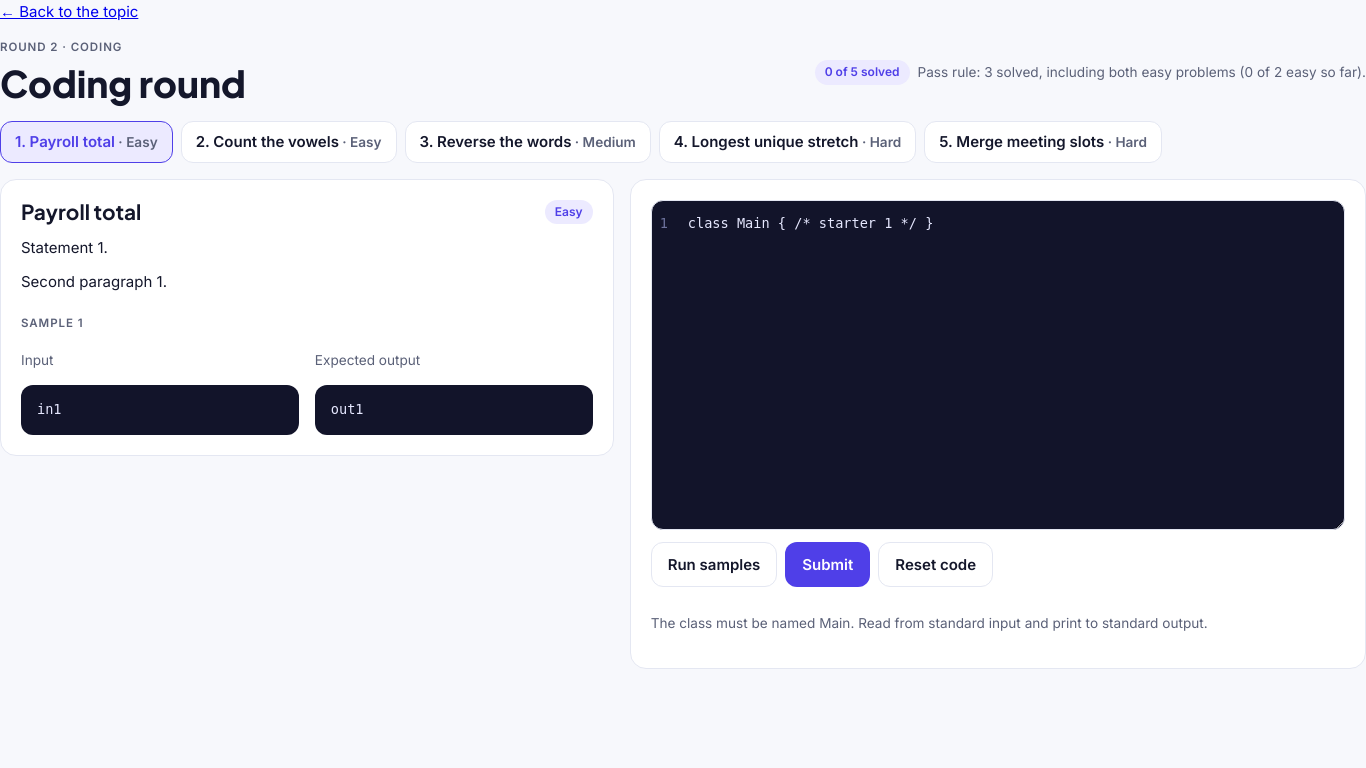
Test: writing and running code › a hidden test failure shows only that it failed, never its data
Check: the heading "Payroll total" is shown, box [21,200,141,224]
Click the button "Submit": [828, 565] box [785,542,870,587]
(page scrolled)
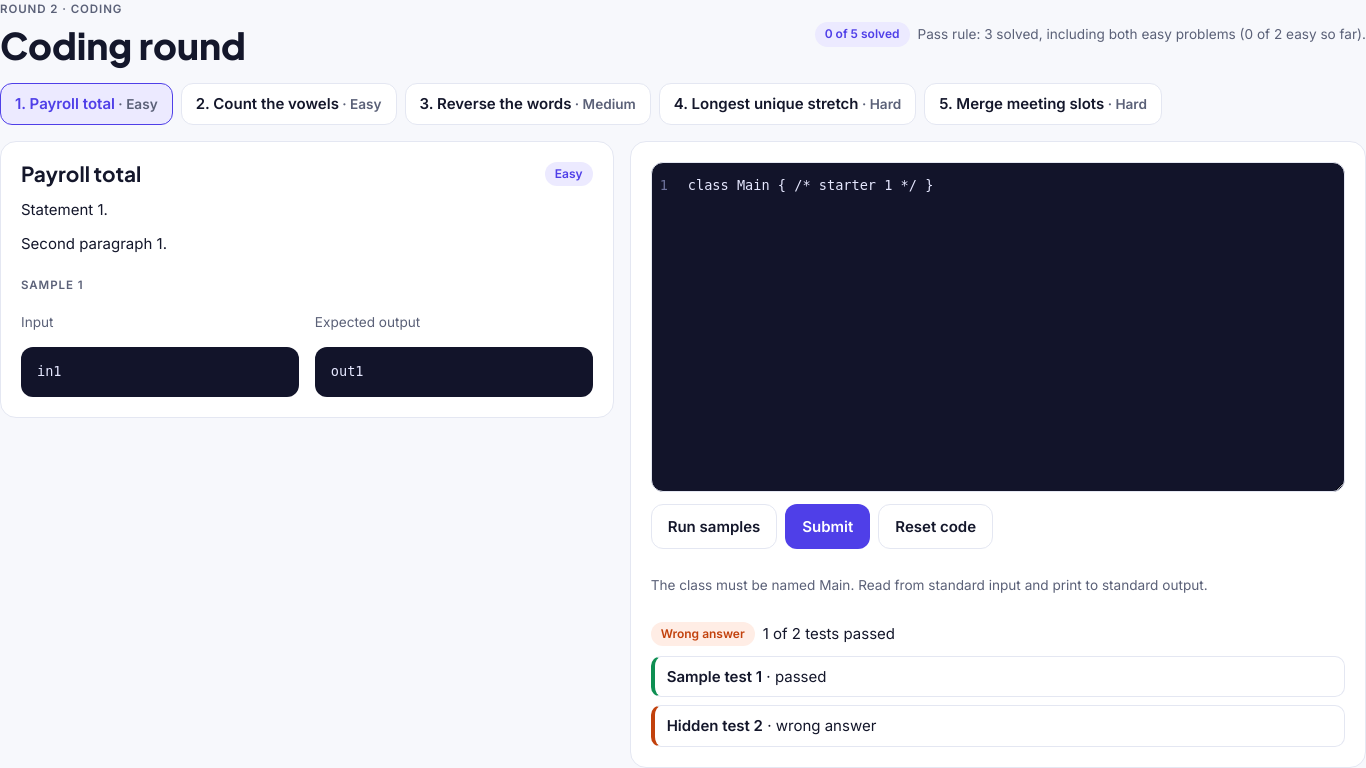
Check: the text "Hidden test 2" is shown, box [667,716,763,735]
